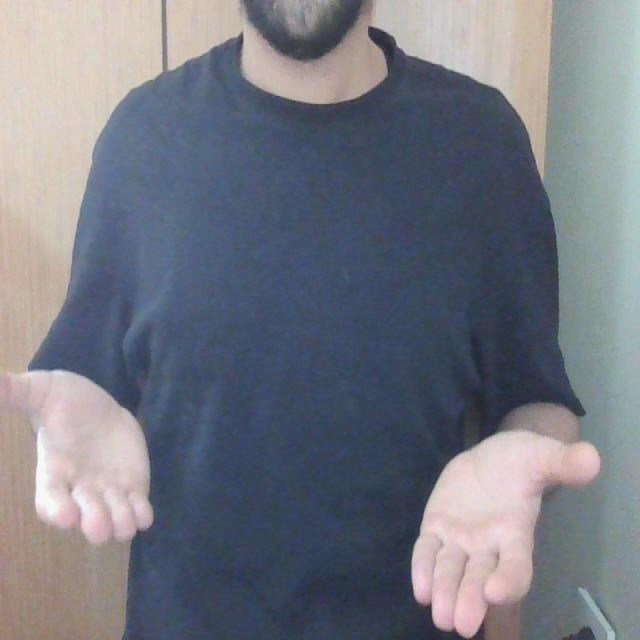Evet: (1, 368, 599, 632)
